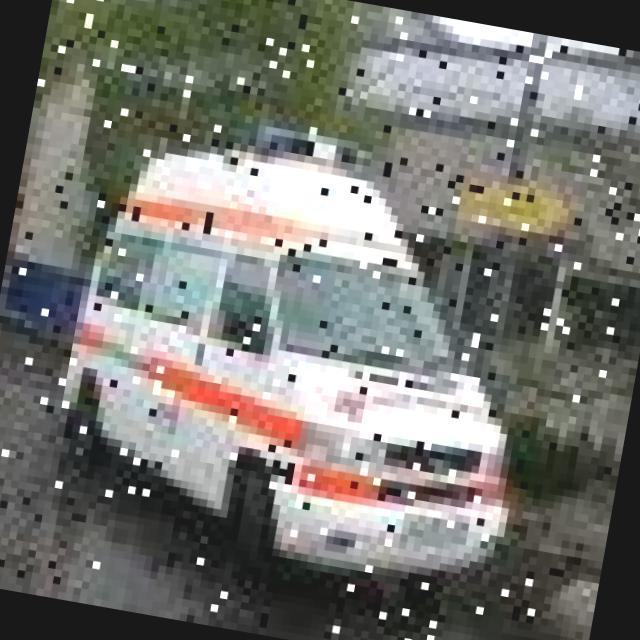emergency-vehicle: (27, 87, 572, 620)
